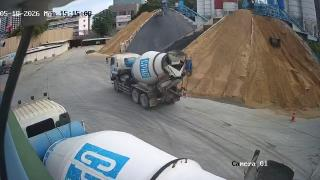cement_mixer_truck: (12, 93, 296, 180), (109, 50, 189, 108), (0, 52, 16, 78)
